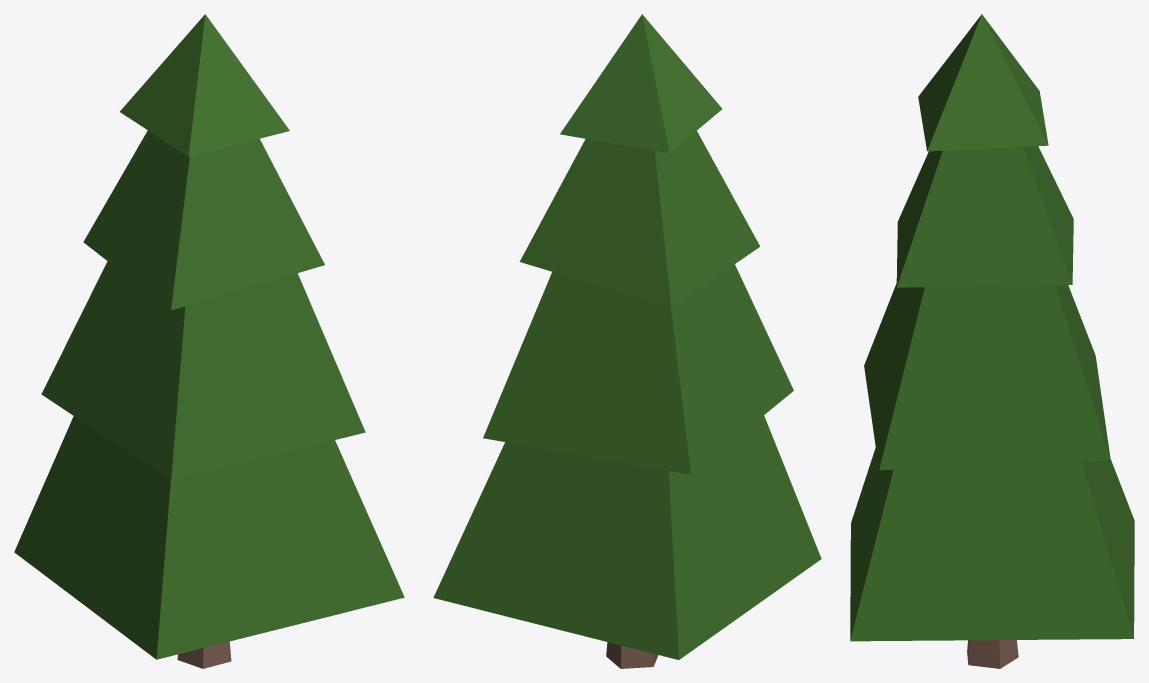
Rendered from Arvore_fir.fbx.
The picture shows the model from 3 angles, left to right: view 1: azimuth 30°, elevation 25°; view 2: azimuth 150°, elevation 25°; view 3: azimuth 270°, elevation 25°; orthographic projection.
Visible parts, largest first — view 1: tree-fir; view 2: tree-fir; view 3: tree-fir.
Part boxes in pixels (x1=…): tree-fir: x1=14, y1=14, x2=404, y2=668; tree-fir: x1=433, y1=14, x2=821, y2=668; tree-fir: x1=850, y1=14, x2=1134, y2=668.
Bounding box in the file's own units: 233 × 579 × 233.
